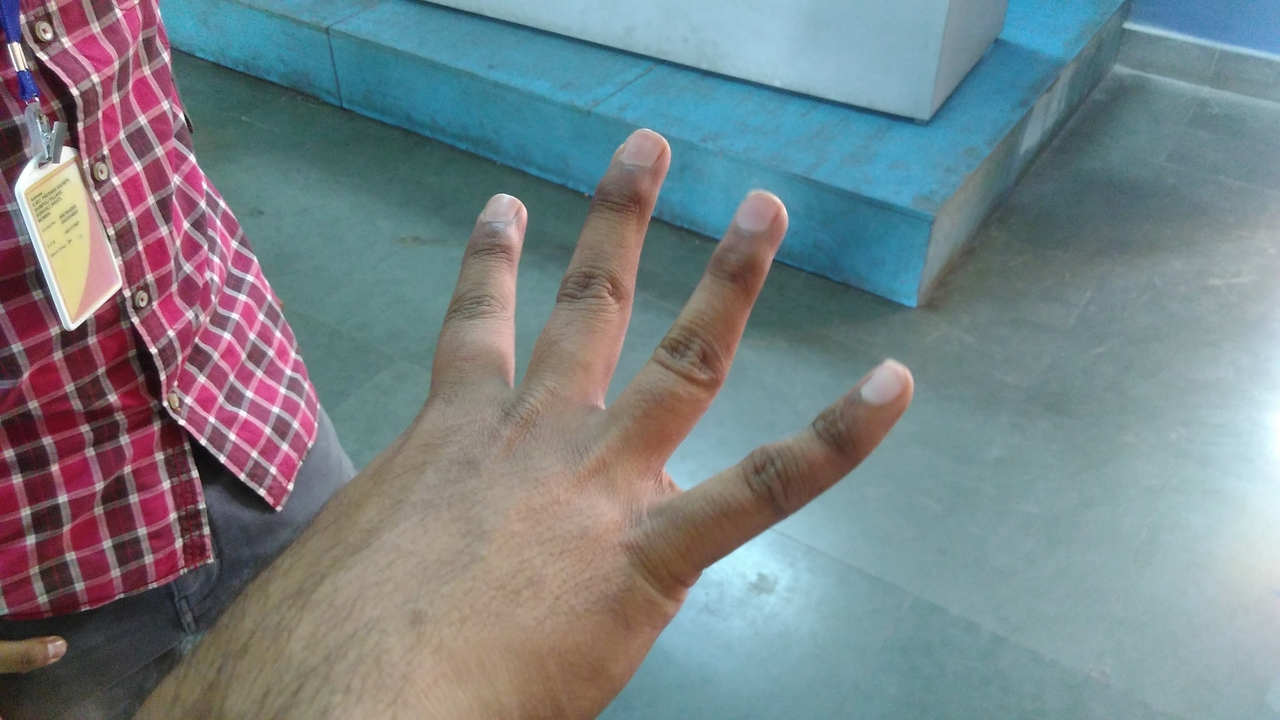fingertip: (604, 120, 680, 184), (854, 348, 928, 412), (724, 180, 796, 244), (466, 184, 532, 238)
